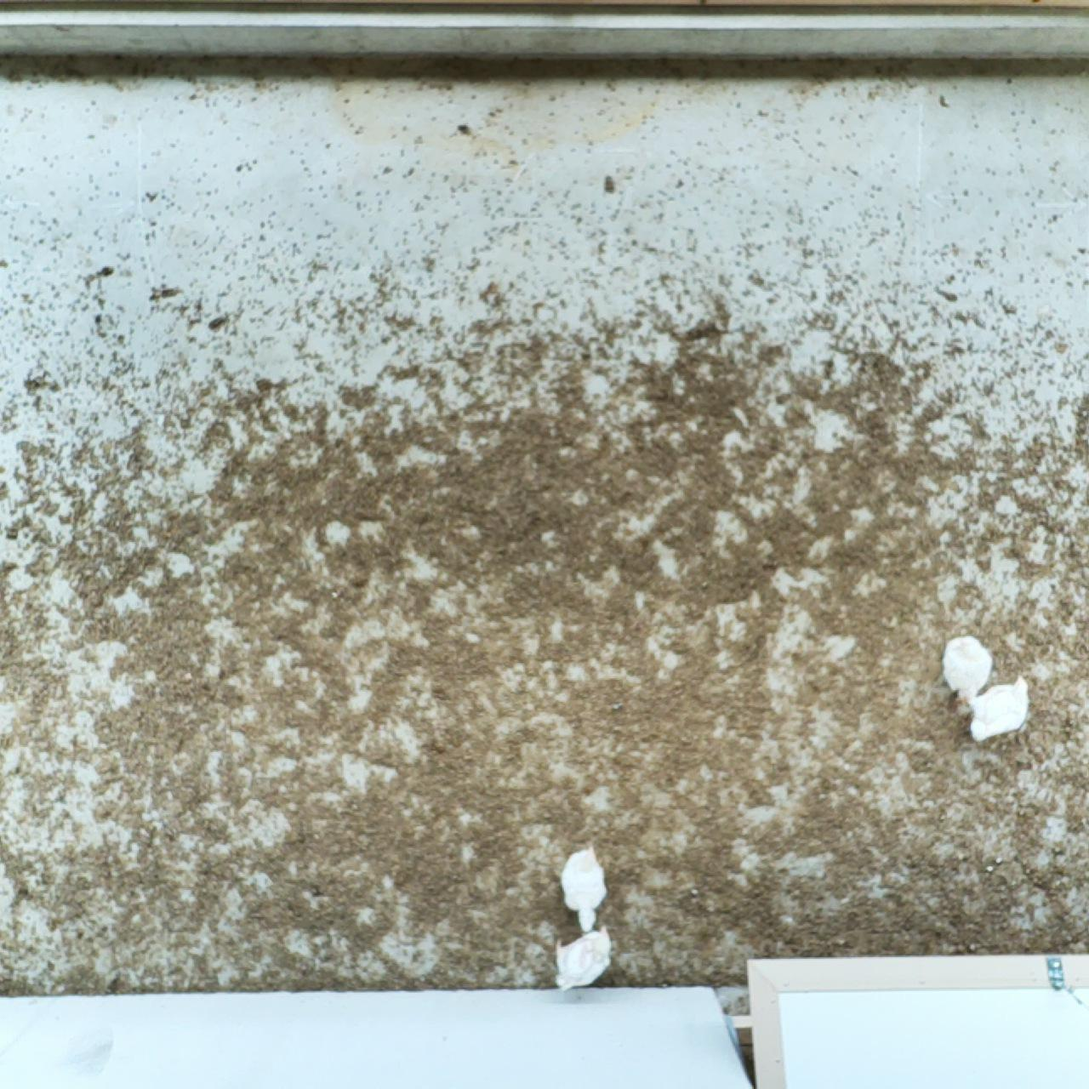chicken: (963, 673, 1039, 748), (558, 837, 611, 934), (939, 628, 1001, 710), (550, 919, 615, 997)
